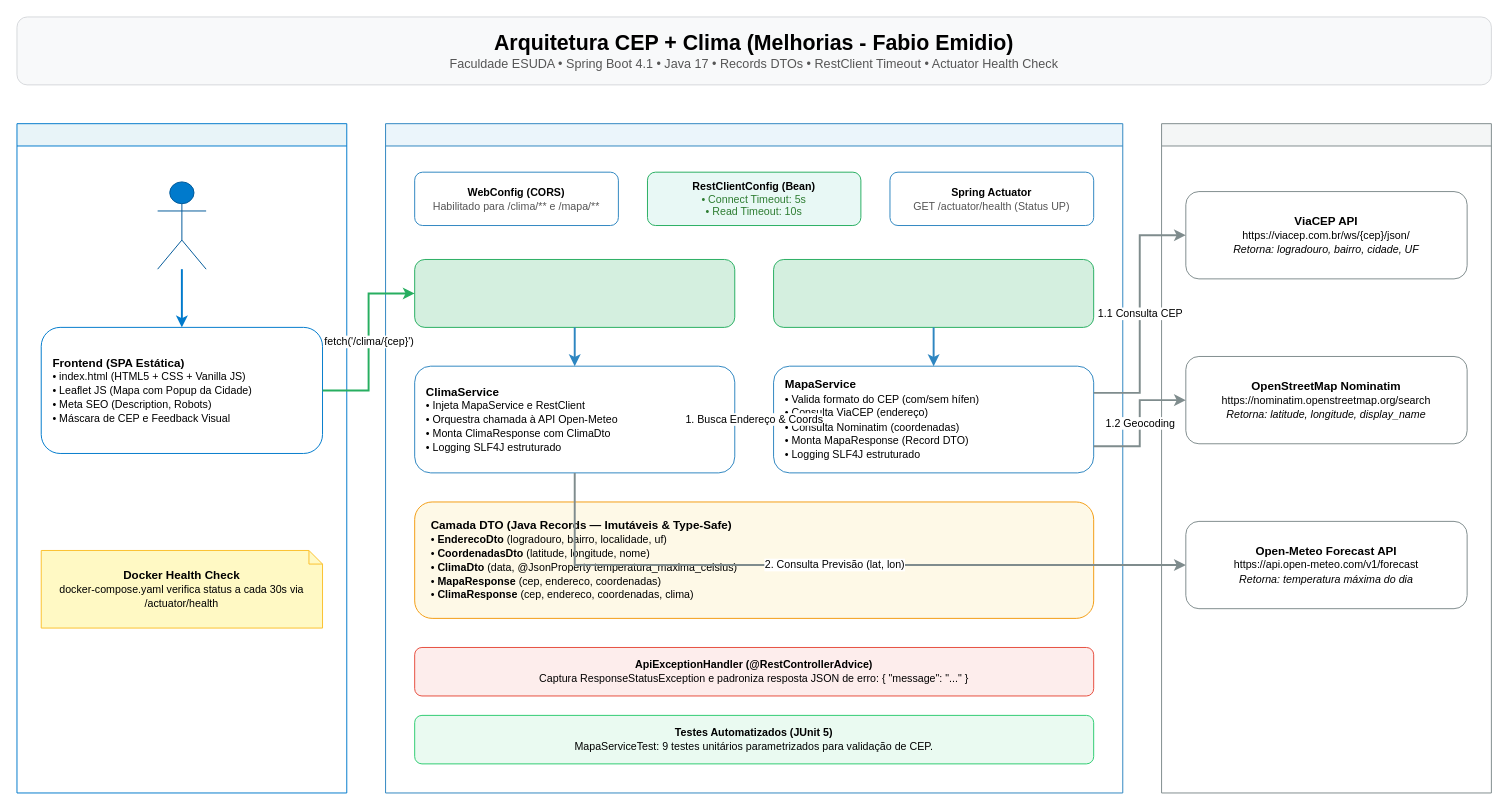
Some shapes in this 1508 by 810 pixel diagram are drawn without their labels. The box of each missing label's shape, as (x1, y1, x2, y2) in pixels:
APIS EXTERNAS (SERVIÇOS PÚBLICOS): (1161, 123, 1491, 793)
BACKEND SPRING BOOT (api-cep-clima : 8080): (385, 123, 1123, 793)
CLIENTE / NAVEGADOR: (16, 123, 347, 793)
ClimaController GET /clima/{cep} Retorno: ClimaResponse: (414, 259, 735, 327)
MapaController GET /mapa/{cep} Retorno: MapaResponse: (773, 259, 1094, 327)
Usuário Final Navegador Web / Mobile: (157, 181, 206, 269)
